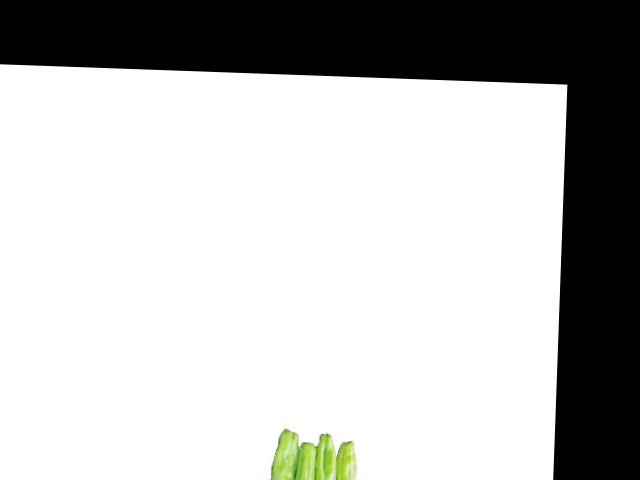bell_pepper: (269, 423, 299, 480)
